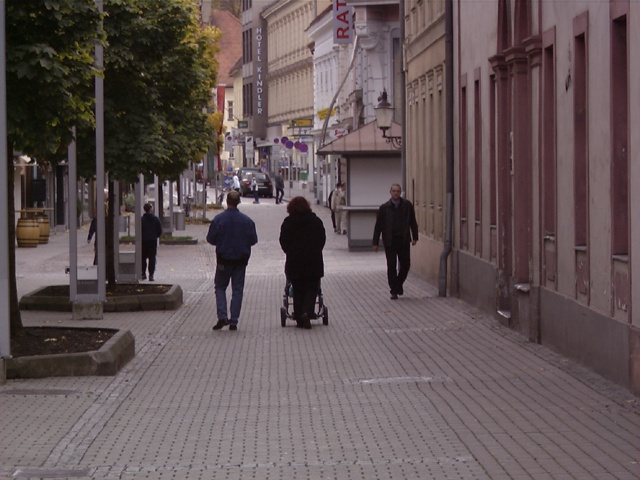person: (201, 186, 261, 332), (277, 194, 326, 328), (374, 181, 420, 300)
